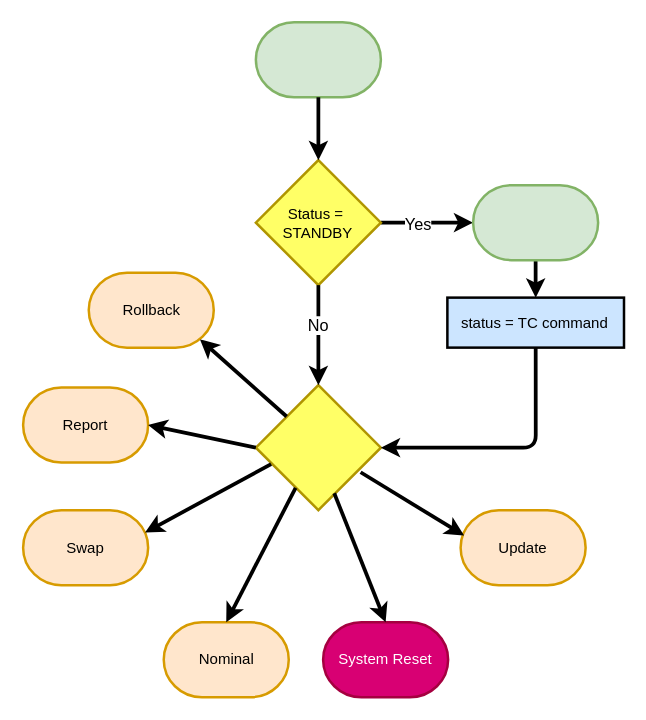
Some shapes in this 646 by 720 pixel diagram are drawn without their labels. Here are the shapes that lost their labels. From the top down, the centre of each, then its label:
At pixel 318 59: "Standby".
At pixel 535 222: "Wait for TC".
At pixel 318 447: "Status?".
